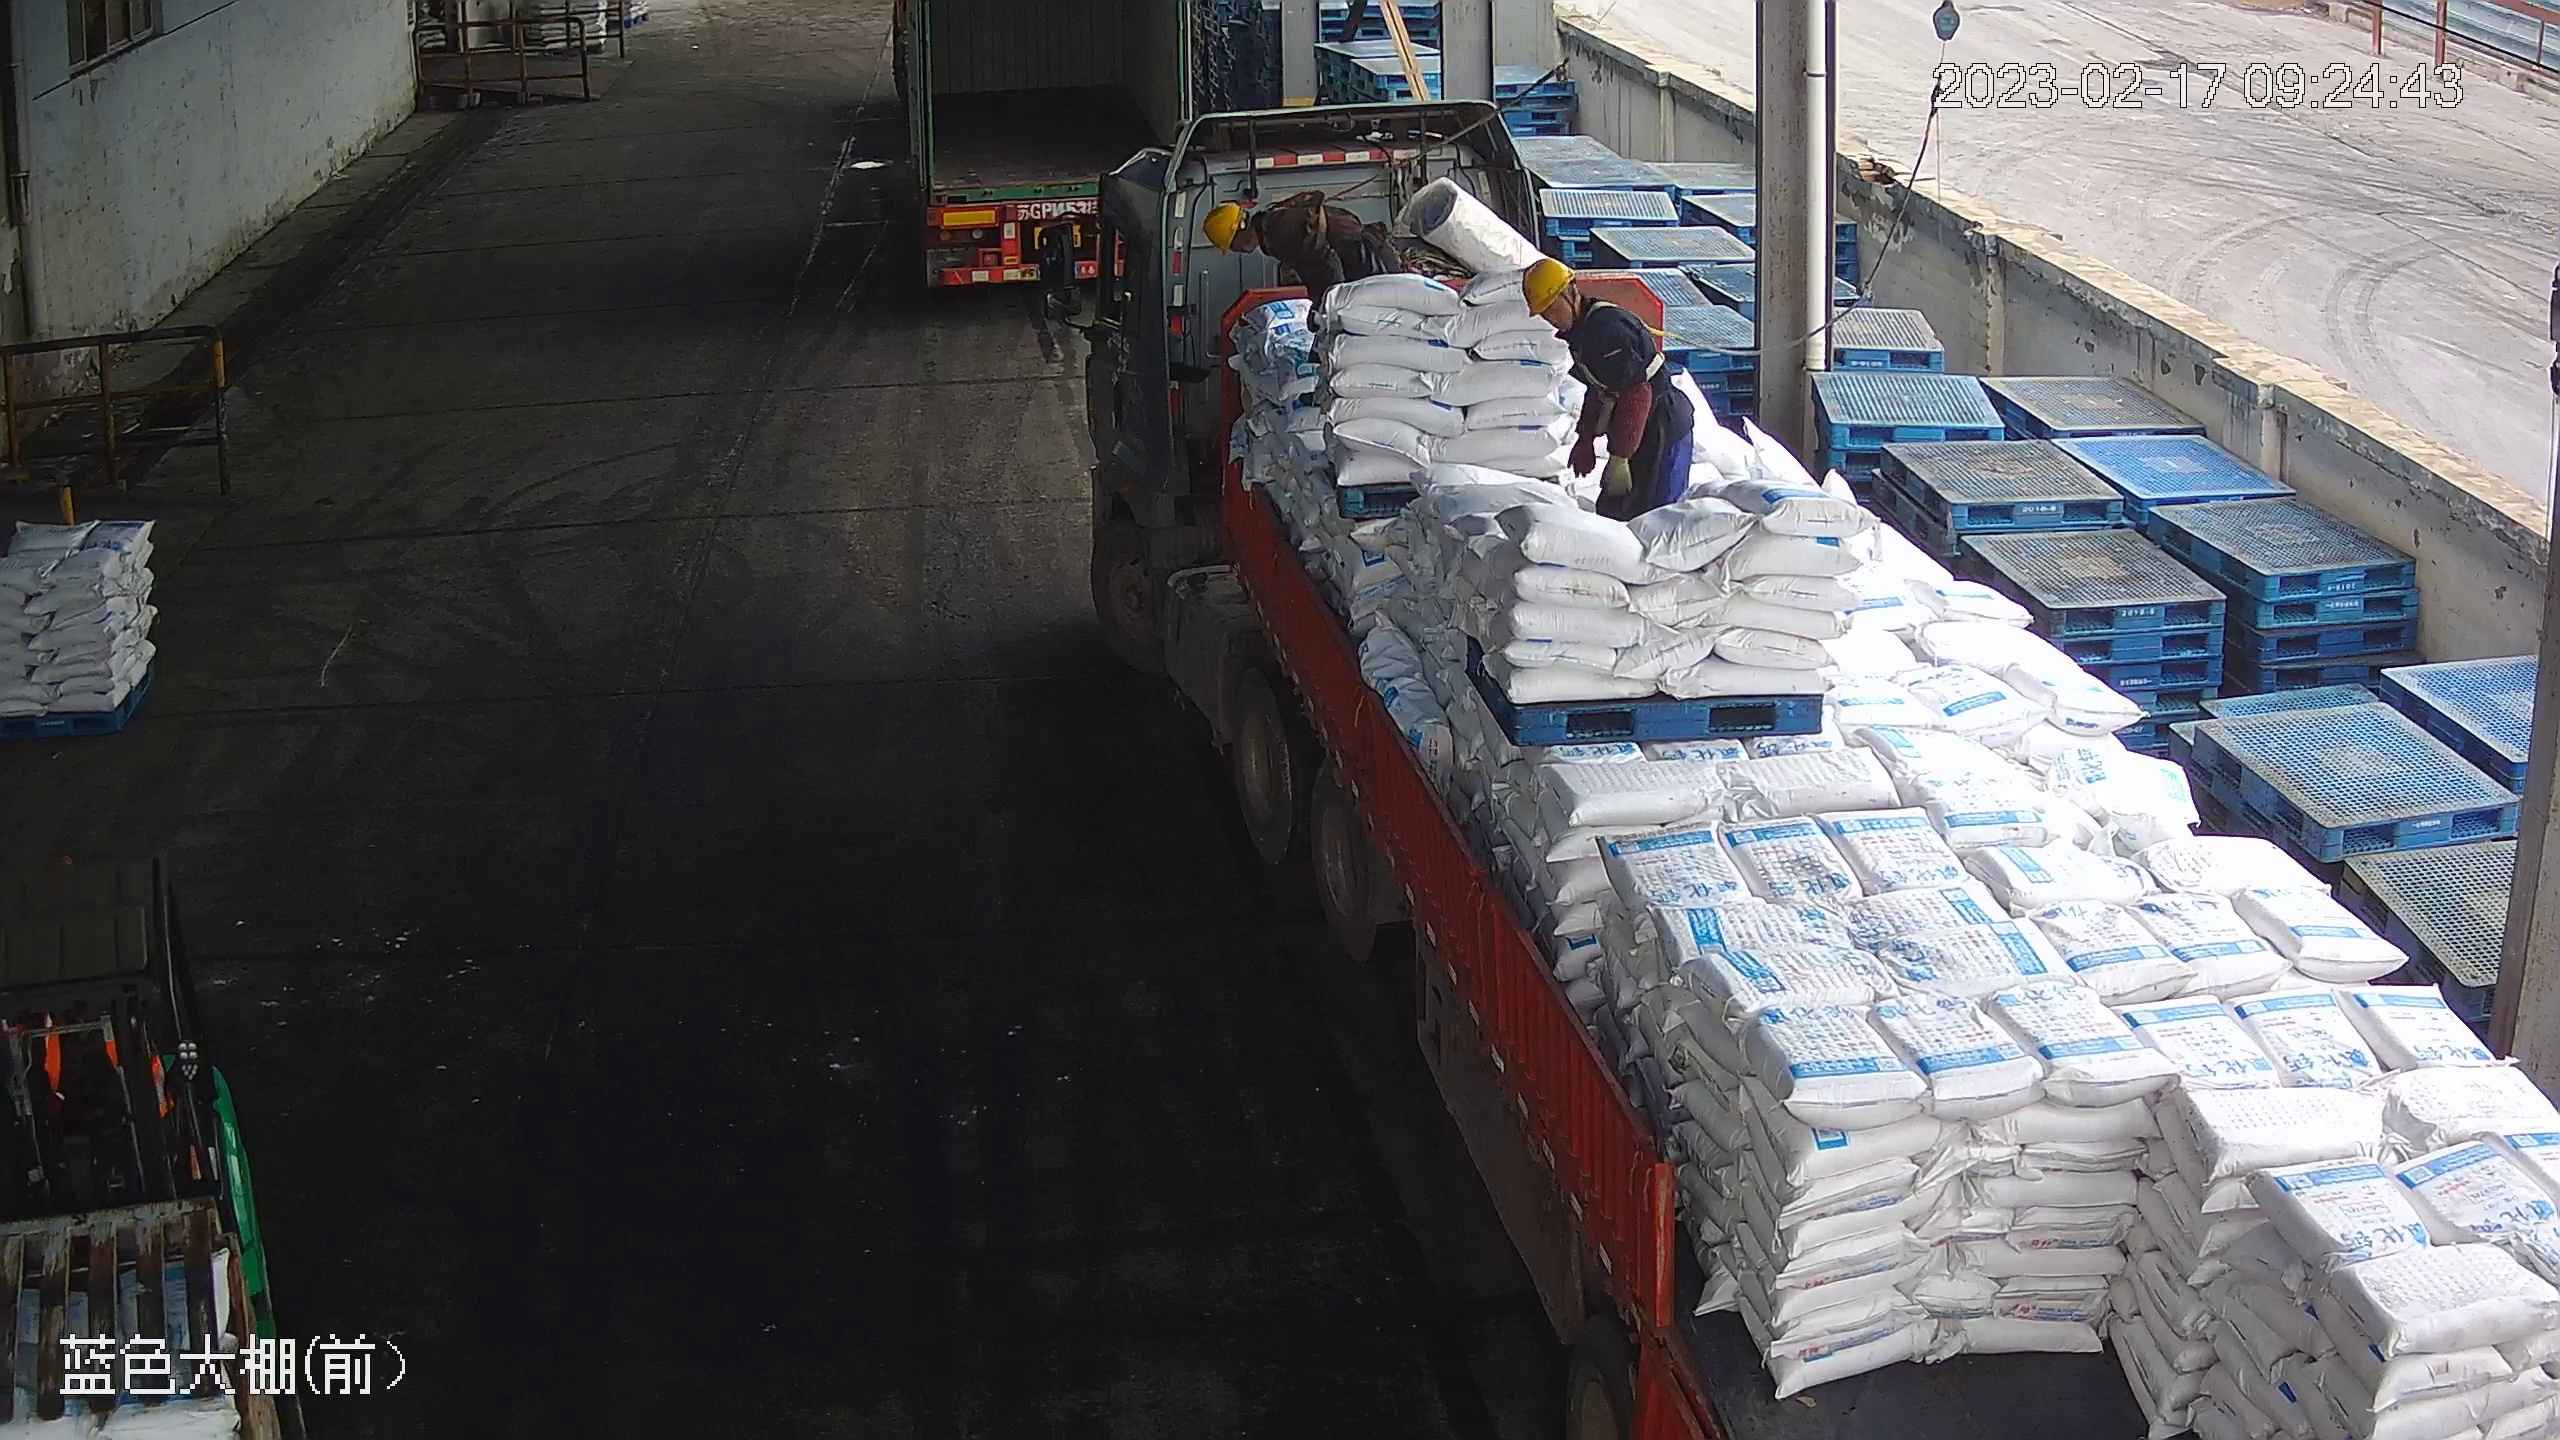belt: (1576, 290, 1668, 379), (1280, 191, 1344, 245)
head: (1520, 260, 1636, 365), (1203, 198, 1298, 267)
helmet: (1520, 260, 1572, 313), (1203, 201, 1243, 251)
people: (1518, 258, 1695, 520), (1203, 198, 1388, 312)
truck: (1029, 99, 2555, 1438), (894, 1, 1212, 293)
